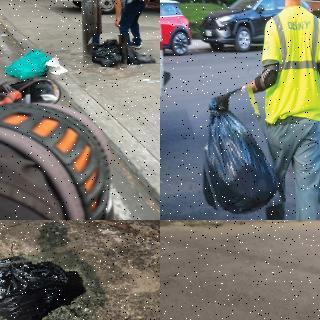Garbage: (193, 90, 278, 217), (0, 249, 93, 320), (1, 45, 60, 82), (93, 35, 128, 67), (119, 41, 160, 67)
